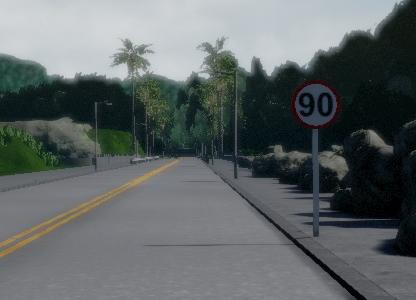Speed_90: (290, 80, 340, 132)
